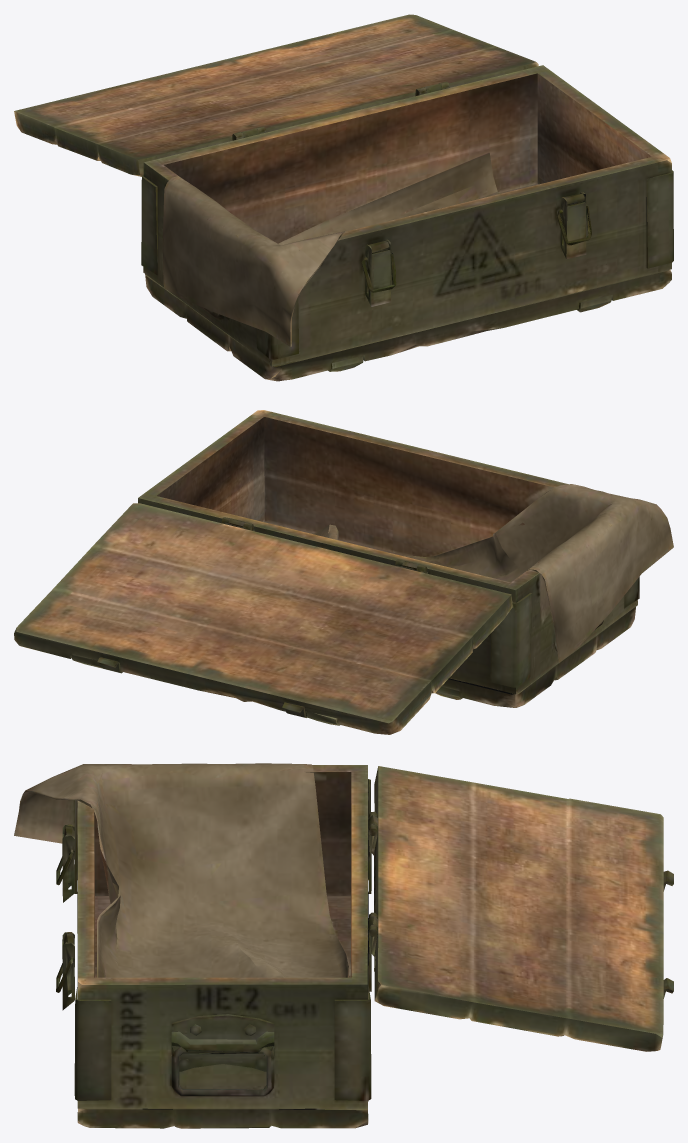
Rendered from old_military_crate_b.glb.
3 views of the same model, one above another, from view 1: azimuth 30°, elevation 25°; view 2: azimuth 150°, elevation 25°; view 3: azimuth 270°, elevation 25° (orthographic). The views are drawn at different scales.
Parts seen in each view (by area): view 1: old_military_crate_b; view 2: old_military_crate_b; view 3: old_military_crate_b.
Boxes of the visible parts, x1,y1,x2,y2 form: old_military_crate_b: (14,14,673,381); old_military_crate_b: (14,410,673,734); old_military_crate_b: (14,763,673,1128).
Size of what is drawn, in the model's own units: 0.8157 by 0.2583 by 0.9745.
1 material, 1 textured.
